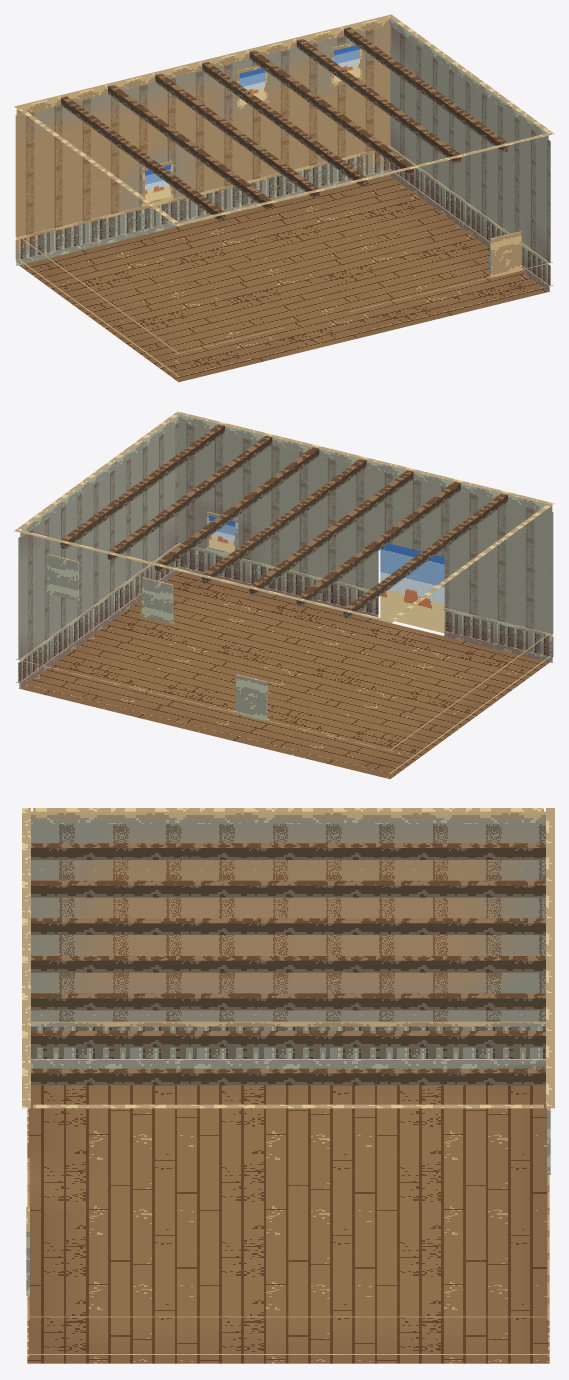
Rendered from wtown.room__saloon.glb.
3 renders of one model, top to bottom at view 1: azimuth 30°, elevation 25°; view 2: azimuth 150°, elevation 25°; view 3: azimuth 270°, elevation 25°, orthographic. The views are drawn at different scales.
Parts seen in each view (by area): view 1: kit_shell_walls, kit_shell_floor, kit_beams, kit_windows, kit_card_views; view 2: kit_shell_walls, kit_shell_floor, kit_beams, kit_windows, kit_card_door_views, kit_card_views; view 3: kit_shell_floor, kit_shell_walls, kit_beams.
Boxes of the visible parts, bbox=[...] form: kit_shell_walls: bbox=[14, 14, 554, 377]; kit_shell_floor: bbox=[19, 175, 549, 382]; kit_beams: bbox=[61, 27, 508, 221]; kit_windows: bbox=[140, 42, 523, 278]; kit_card_views: bbox=[145, 45, 359, 202]; kit_shell_walls: bbox=[14, 411, 554, 774]; kit_shell_floor: bbox=[19, 572, 549, 779]; kit_beams: bbox=[60, 424, 507, 618]; kit_windows: bbox=[45, 511, 268, 721]; kit_card_door_views: bbox=[380, 543, 444, 633]; kit_card_views: bbox=[209, 515, 234, 552]; kit_shell_floor: bbox=[27, 1085, 549, 1363]; kit_shell_walls: bbox=[22, 808, 554, 1356]; kit_beams: bbox=[31, 843, 545, 1085].
Bounding box in the file's own units: 16 × 6.45 × 12.18.
7 materials, 7 textured.
